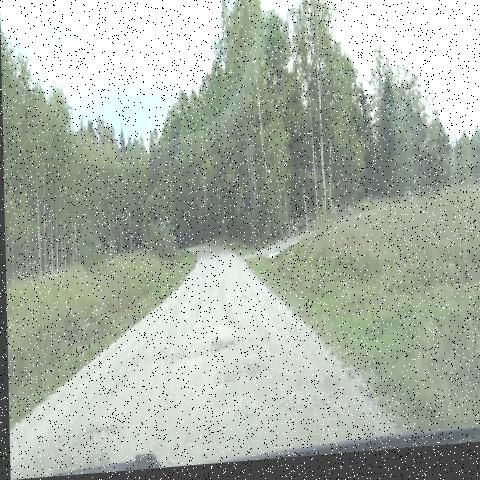pothole: (221, 382, 338, 442), (156, 327, 250, 375), (201, 361, 272, 398), (67, 413, 125, 453), (228, 284, 250, 315)
